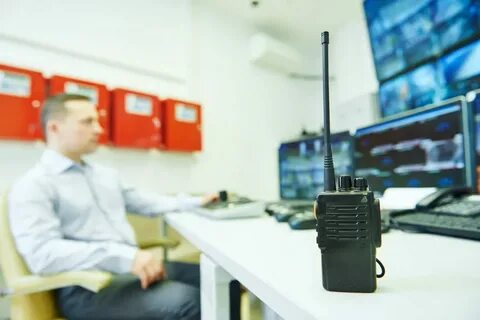awake: (6, 92, 200, 320)
